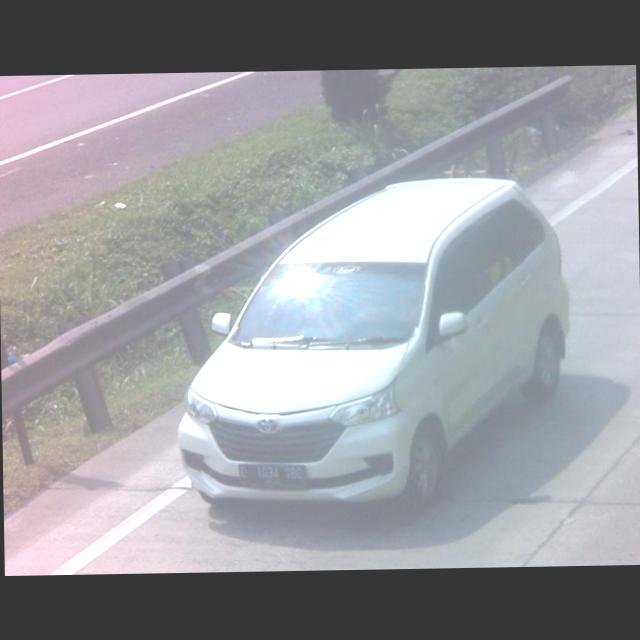plate: (234, 458, 305, 487)
